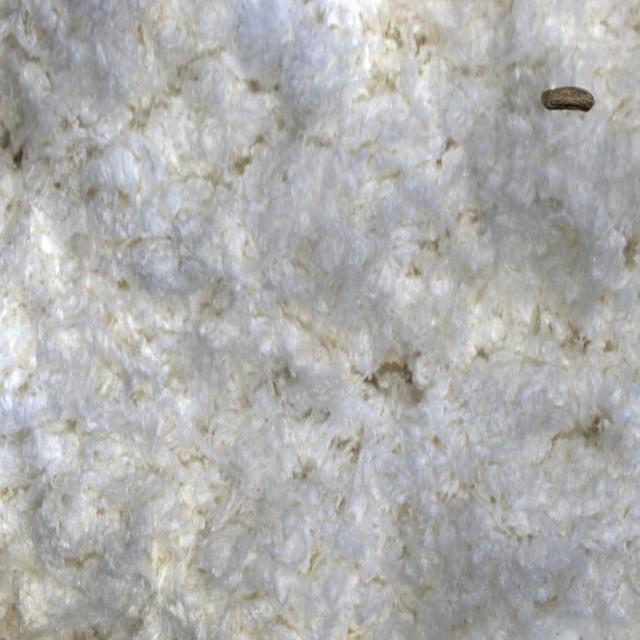dust: (519, 43, 613, 166)
